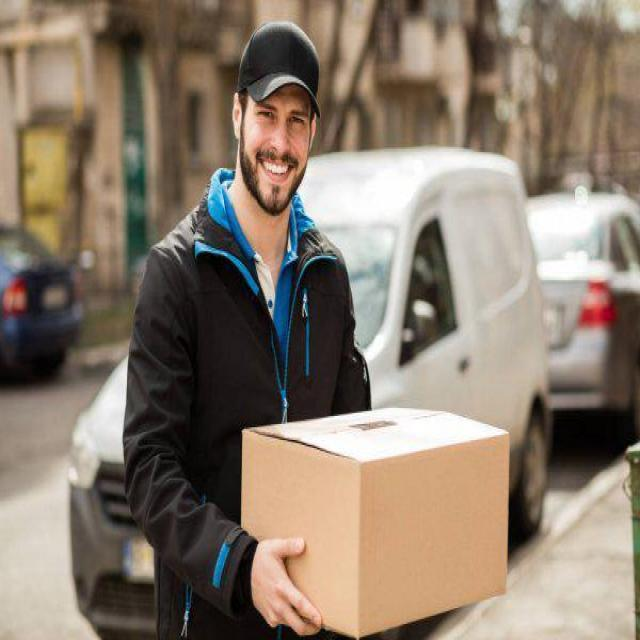box: (238, 385, 514, 640)
